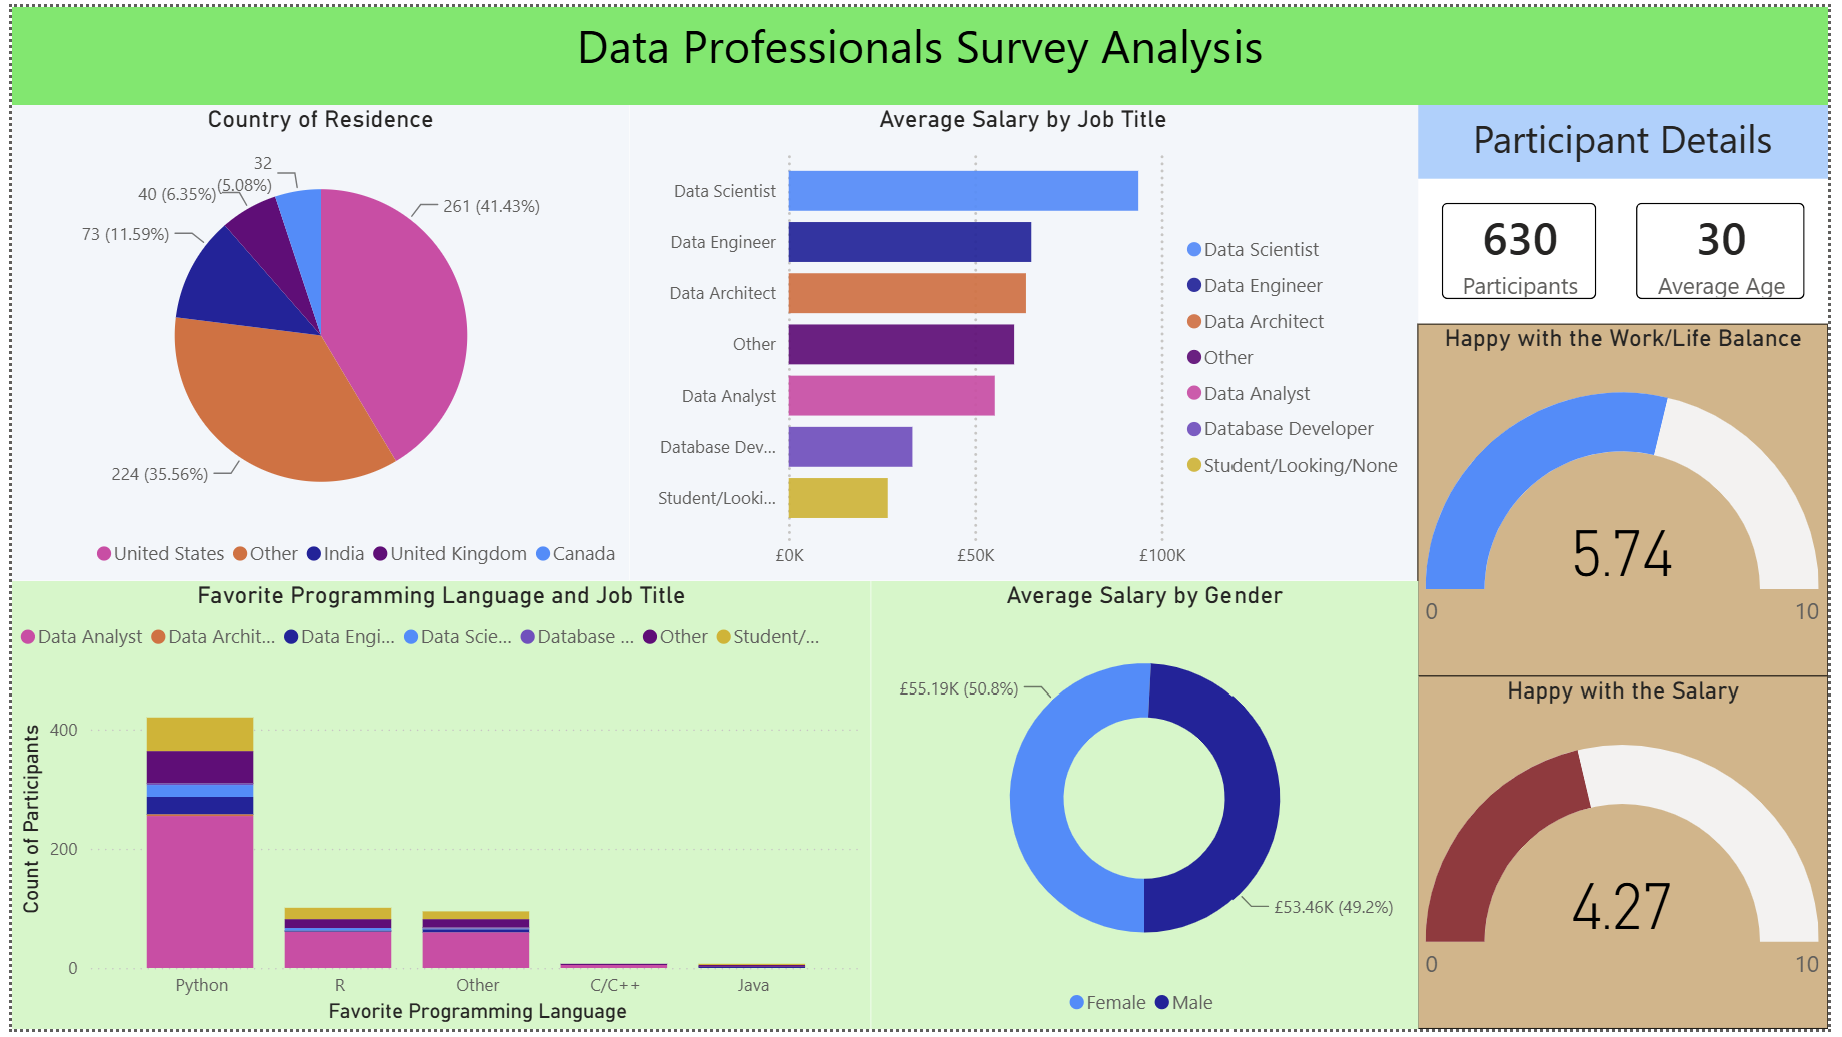

The dashboard page shown, as its layout file describes it:
{"tool":"powerbi","page":{"name":"Page 1","canvas":[1280,720],"ordinal":0},"visuals":[{"type":"textbox","box":[0,0,1280,69.1],"z":0},{"type":"cardVisual","fields":{"Data":["CountNonNull(Data Professional Survey.Unique ID)"]},"box":[990.5,121.2,143.2,102.2],"z":1000},{"type":"cardVisual","fields":{"Data":["Avg(Data Professional Survey.Q10 - Current Age)"]},"box":[1126.8,121.2,153.2,102.2],"z":2000},{"type":"textbox","box":[990.5,69.1,289.5,52.1],"z":3000},{"type":"barChart","title":"Average Salary by Job Title","fields":{"Category":["Data Professional Survey.Q1 - Which Title Best Fits your Current Role?.1"],"Y":["Avg(Data Professional Survey.Average Salary)"],"Series":["Data Professional Survey.Q1 - Which Title Best Fits your Current Role?.1"]},"box":[435.7,69.1,554.9,335.5],"z":4000},{"type":"columnChart","title":"Favorite Programming Language and Job Title","fields":{"Category":["Data Professional Survey.Q5 - Favorite Programming Language.1"],"Y":["CountNonNull(Data Professional Survey.Unique ID)"],"Series":["Data Professional Survey.Q1 - Which Title Best Fits your Current Role?.1"]},"box":[0,404.6,605.9,315.5],"z":5000},{"type":"pieChart","title":"Country of Residence","fields":{"Category":["Data Professional Survey.Q11 - Which Country do you live in?.1"],"Y":["CountNonNull(Data Professional Survey.Q11 - Which Country do you live in?.1)"]},"box":[0,69.1,435.7,335.5],"z":6000},{"type":"gauge","title":"Happy with the Work/Life Balance","fields":{"Y":["Avg(Data Professional Survey.Q6 - How Happy are you in your Current Position with the following? (Work/Life Balance))"],"MinValue":["Min(Data Professional Survey.Q6 - How Happy are you in your Current Position with the following? (Work/Life Balance))"],"MaxValue":["Max(Data Professional Survey.Q6 - How Happy are you in your Current Position with the following? (Work/Life Balance))1"]},"box":[990.5,223.3,289.5,248.4],"z":7000},{"type":"gauge","title":"Happy with the Salary","fields":{"Y":["Avg(Data Professional Survey.Q6 - How Happy are you in your Current Position with the following? (Salary))"],"MinValue":["Min(Data Professional Survey.Q6 - How Happy are you in your Current Position with the following? (Salary))"],"MaxValue":["Max(Data Professional Survey.Q6 - How Happy are you in your Current Position with the following? (Salary))"]},"box":[990.5,471.7,289.5,248.4],"z":8000},{"type":"donutChart","title":"Average Salary by Gender","fields":{"Category":["Data Professional Survey.Q9 - Male/Female?"],"Y":["Avg(Data Professional Survey.Average Salary)"]},"box":[605.9,404.6,384.6,315.5],"z":9000}]}

Visuals, with their boxes in screenshot pixels (x1, y1, x2, y2), scaled from the page's 1280x720 canvas onto the 1842x1037 screenshot:
textbox: 0/0/1841/100
cardVisual - CountNonNull(Data Professional Survey.Unique ID): 1425/175/1631/322
cardVisual - Avg(Data Professional Survey.Q10 - Current Age): 1622/175/1841/322
textbox: 1425/100/1841/175
"Average Salary by Job Title" barChart: 627/100/1426/583
"Favorite Programming Language and Job Title" columnChart: 0/583/872/1036
"Country of Residence" pieChart: 0/100/627/583
"Happy with the Work/Life Balance" gauge: 1425/322/1841/679
"Happy with the Salary" gauge: 1425/679/1841/1036
"Average Salary by Gender" donutChart: 872/583/1425/1036
